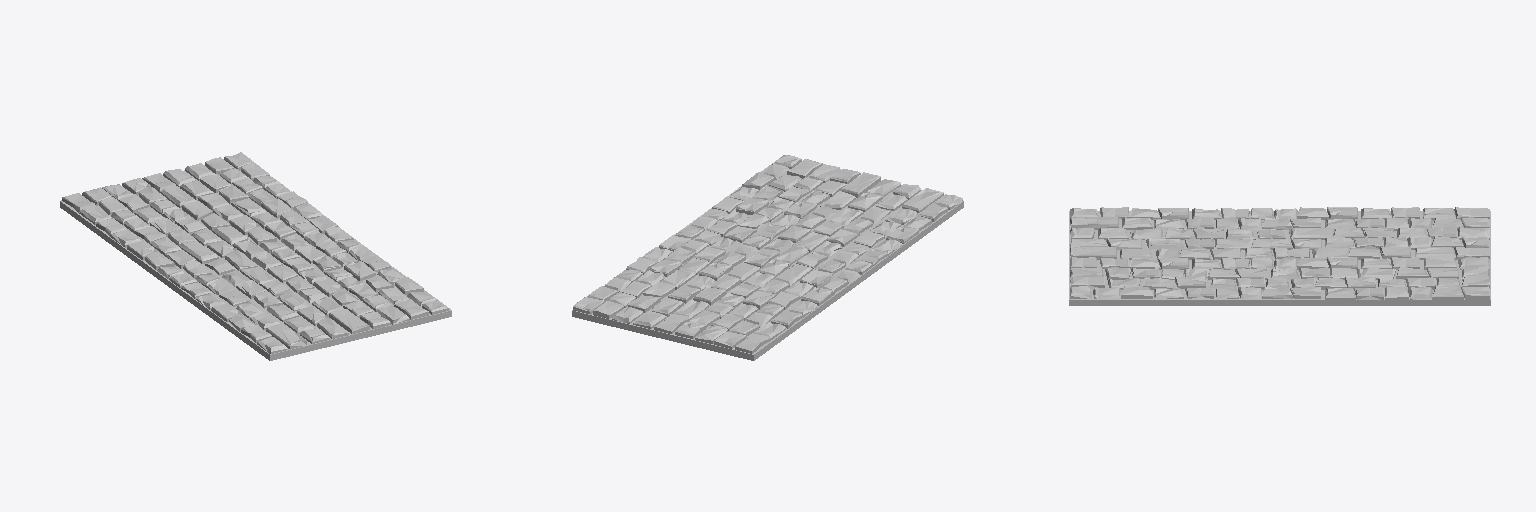
File: aStoneRoad0.obj
3 renders of one model, left to right at view 1: azimuth 30°, elevation 25°; view 2: azimuth 150°, elevation 25°; view 3: azimuth 270°, elevation 25°, orthographic.
Visible parts, largest first — view 1: Road_breek_1_Mesh.048; view 2: Road_breek_1_Mesh.048; view 3: Road_breek_1_Mesh.048.
Part boxes in pixels (x1,y1,x2,y2): Road_breek_1_Mesh.048: (60, 152, 451, 360); Road_breek_1_Mesh.048: (572, 155, 963, 360); Road_breek_1_Mesh.048: (1069, 207, 1490, 305).
Size of the model in its own units: 3 by 0.187 by 6.